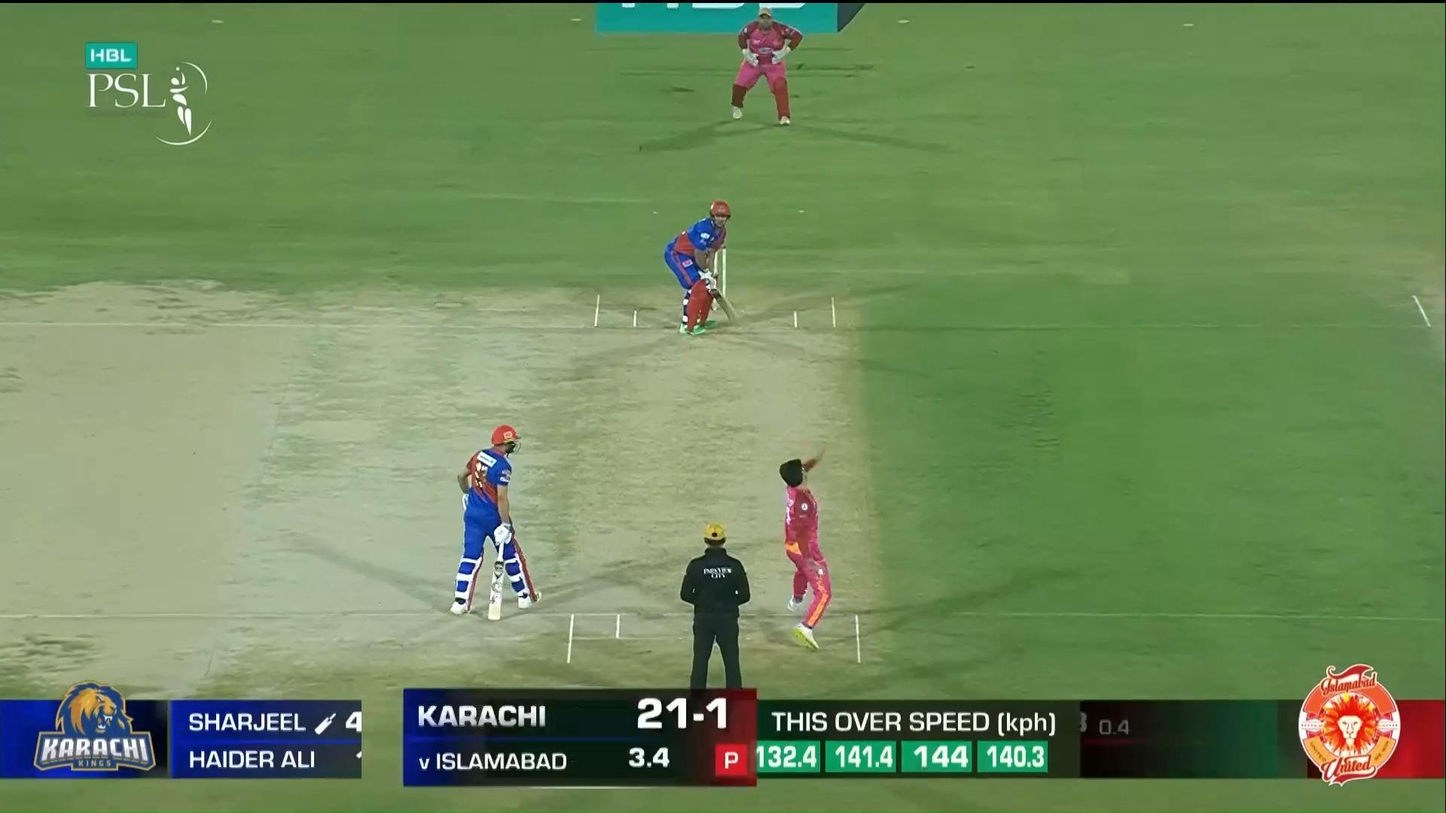batsman: (664, 200, 739, 336)
